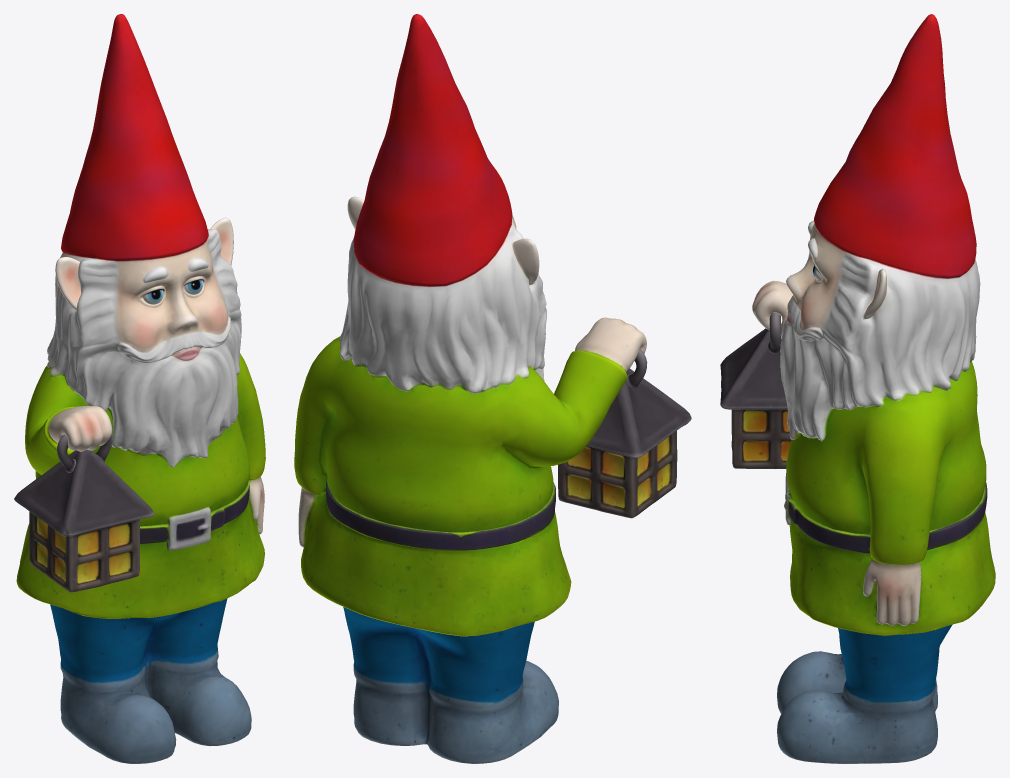
File: garden_gnome.glb
3 views of the same model, side by side, from view 1: azimuth 30°, elevation 25°; view 2: azimuth 150°, elevation 25°; view 3: azimuth 270°, elevation 25° (orthographic). The views are drawn at different scales.
Parts seen in each view (by area): view 1: garden_gnome; view 2: garden_gnome; view 3: garden_gnome.
Part boxes in pixels (box(x1,y1,x2,y2)): garden_gnome: box(14, 14, 265, 763); garden_gnome: box(294, 14, 691, 763); garden_gnome: box(720, 14, 995, 763).
Size of the model in its own units: 0.2579 by 0.5991 by 0.2097.
1 material, 1 textured.
